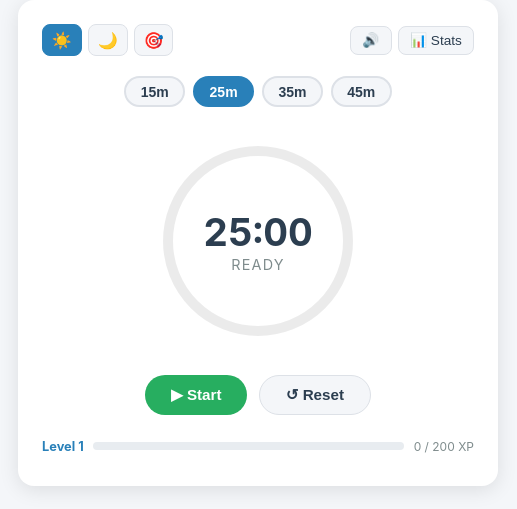
Test: PomodoroTimer › Pause stops the timer and restores Start/Resume
Click the button "▶ Start" at (196, 395), box [145,375,247,415]
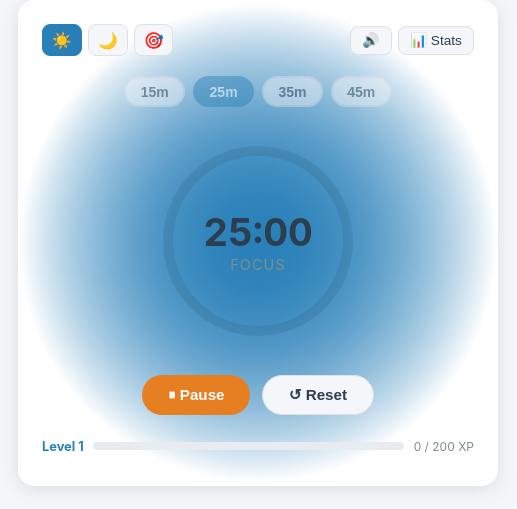
Click the button "⏸ Pause" at (196, 395), box [142,375,250,415]
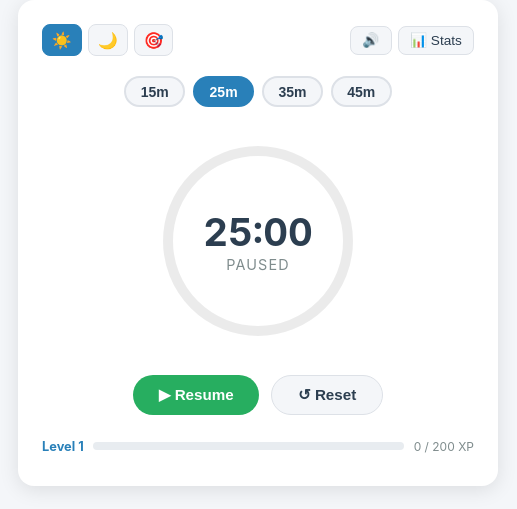
Check: the text "Paused" is shown, box [226,256,290,273]
Check: the button "▶ Resume" is shown, box [133,375,259,415]
